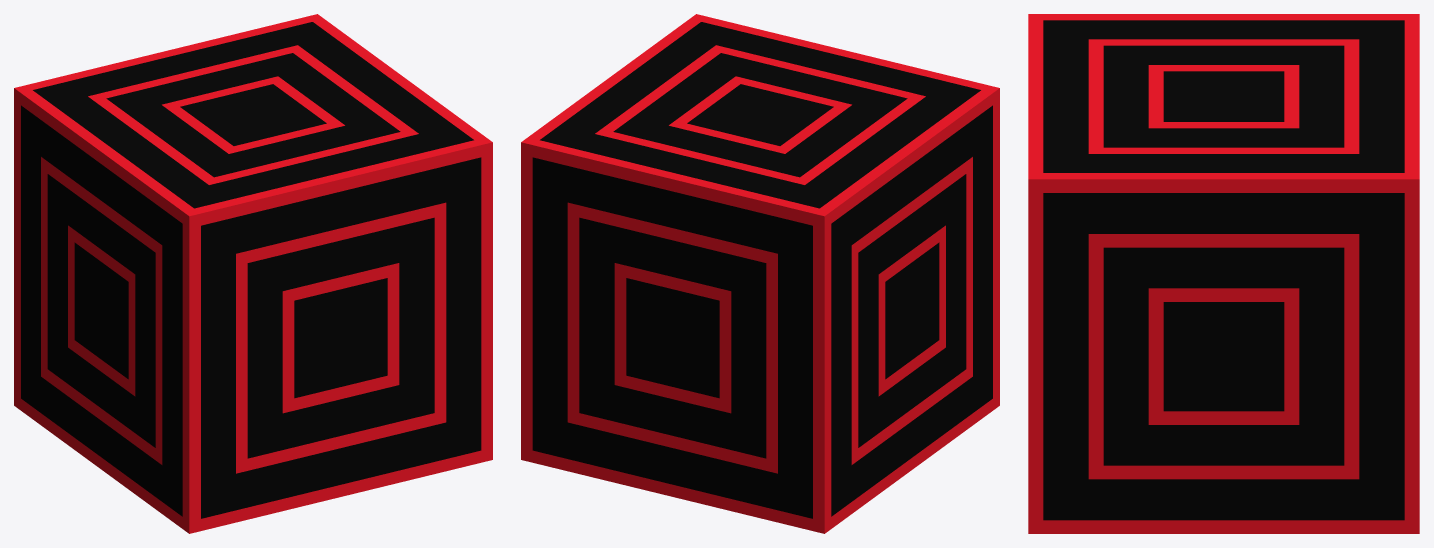
3 renders of one model, left to right at view 1: azimuth 30°, elevation 25°; view 2: azimuth 150°, elevation 25°; view 3: azimuth 270°, elevation 25°, orthographic. The views are drawn at different scales.
Parts seen in each view (by area): view 1: Cube, Cube.001, Cube.002, Cube.003; view 2: Cube, Cube.001, Cube.002, Cube.003; view 3: Cube, Cube.001, Cube.002, Cube.003.
Part boxes in pixels (x1=…): Cube: x1=21, y1=22, x2=481, y2=518; Cube.001: x1=14, y1=14, x2=492, y2=533; Cube.002: x1=41, y1=45, x2=446, y2=473; Cube.003: x1=68, y1=76, x2=399, y2=413; Cube: x1=532, y1=22, x2=992, y2=518; Cube.001: x1=521, y1=14, x2=999, y2=533; Cube.002: x1=567, y1=45, x2=972, y2=473; Cube.003: x1=614, y1=76, x2=945, y2=413; Cube: x1=1043, y1=20, x2=1404, y2=520; Cube.001: x1=1028, y1=14, x2=1419, y2=533; Cube.002: x1=1088, y1=39, x2=1359, y2=479; Cube.003: x1=1148, y1=65, x2=1299, y2=424.
Size of the model in its own units: 200 by 200 by 200.
